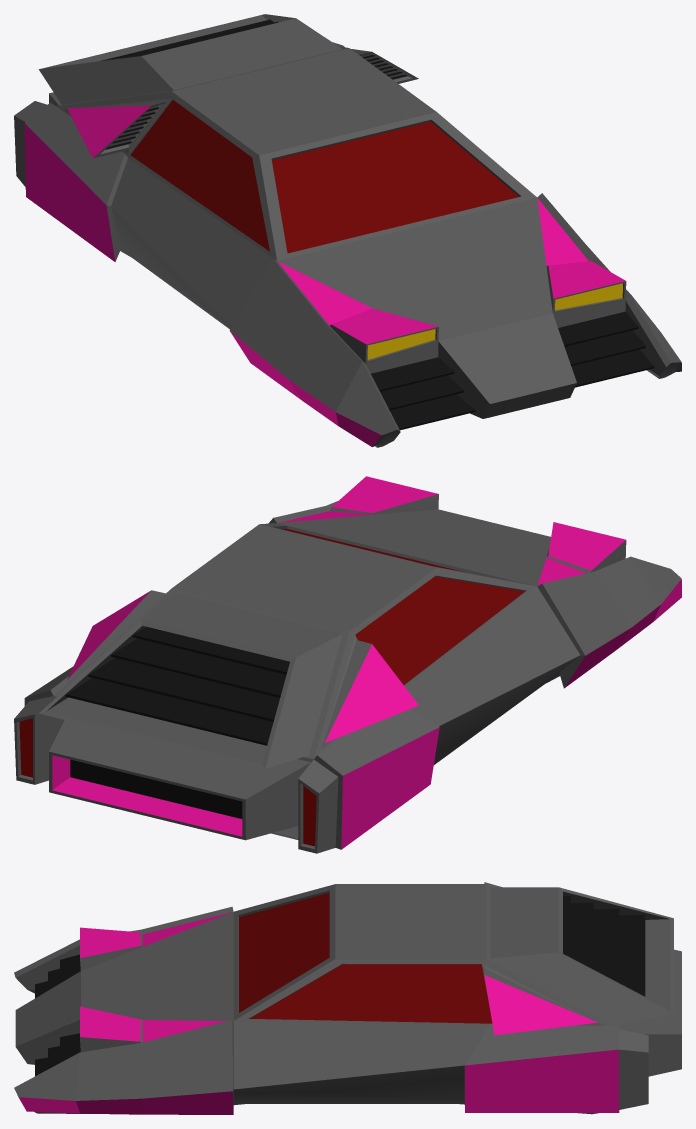
File: LamboV0.0.01.fbx
3 views of the same model, one above another, from view 1: azimuth 30°, elevation 25°; view 2: azimuth 150°, elevation 25°; view 3: azimuth 270°, elevation 25° (orthographic). The views are drawn at different scales.
Parts seen in each view (by area): view 1: Lambo; view 2: Lambo; view 3: Lambo.
Boxes of the visible parts, left/top/right/bottom form: Lambo: left=14, top=14, right=681, bottom=447; Lambo: left=14, top=476, right=681, bottom=853; Lambo: left=14, top=882, right=681, bottom=1114.
Size of the model in its own units: 2.74 by 1.14 by 5.16.
